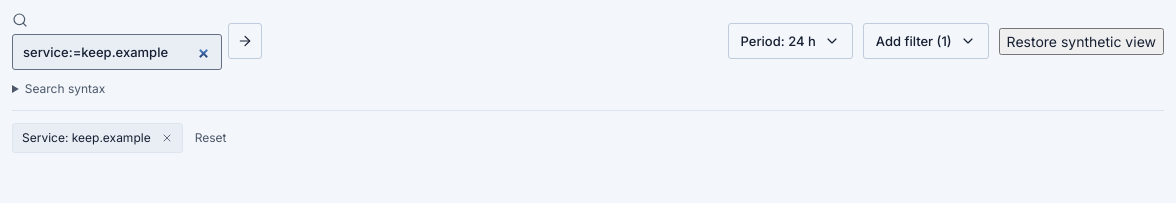
Scenario: does not broaden or partially apply invalid input unknown:value
Click the search field: point(117, 52) [12,34,222,70]
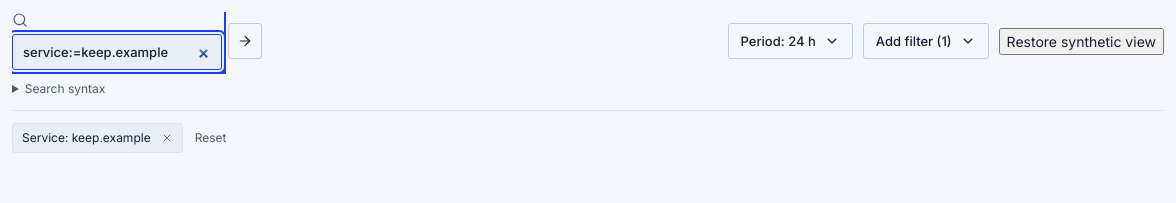
Type keys "{Control>}a{/Control}"
Type keys "unknown:value"
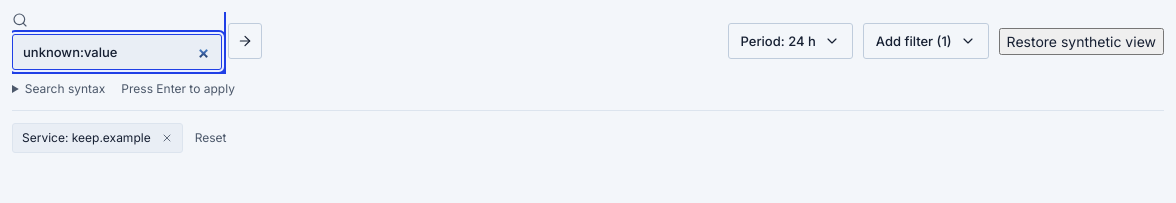
Press Enter
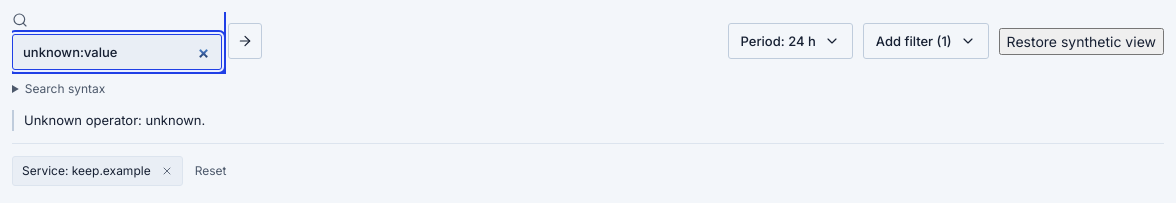
Expected: the button "Service: keep.example" is shown, [22,162,151,180]
Now the message "Unknown operator: unknown." is shown, box [12,110,1164,131]
